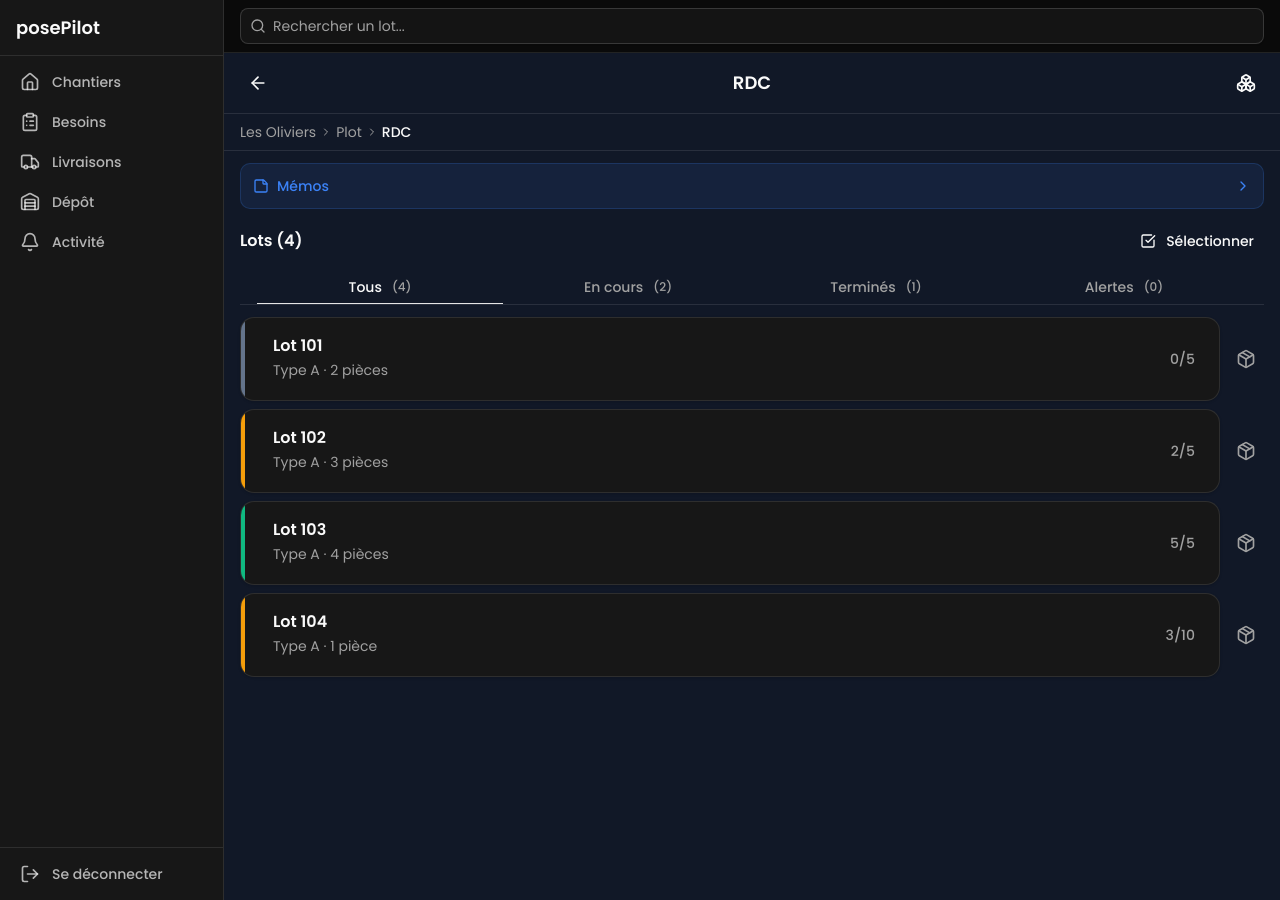
Test: EtageIndexPage — GridFilterTabs integration › "Terminés" filter shows only fully completed lots (AC #3)
Check: the element showing "Tous (4) En cours (2) Terminés (1) Alertes (0)" is shown, box x1=240 y1=269 x2=1264 y2=305
Click the tab "Terminés (1)". click: (876, 286)
box: x1=752 y1=272 x2=1000 y2=300
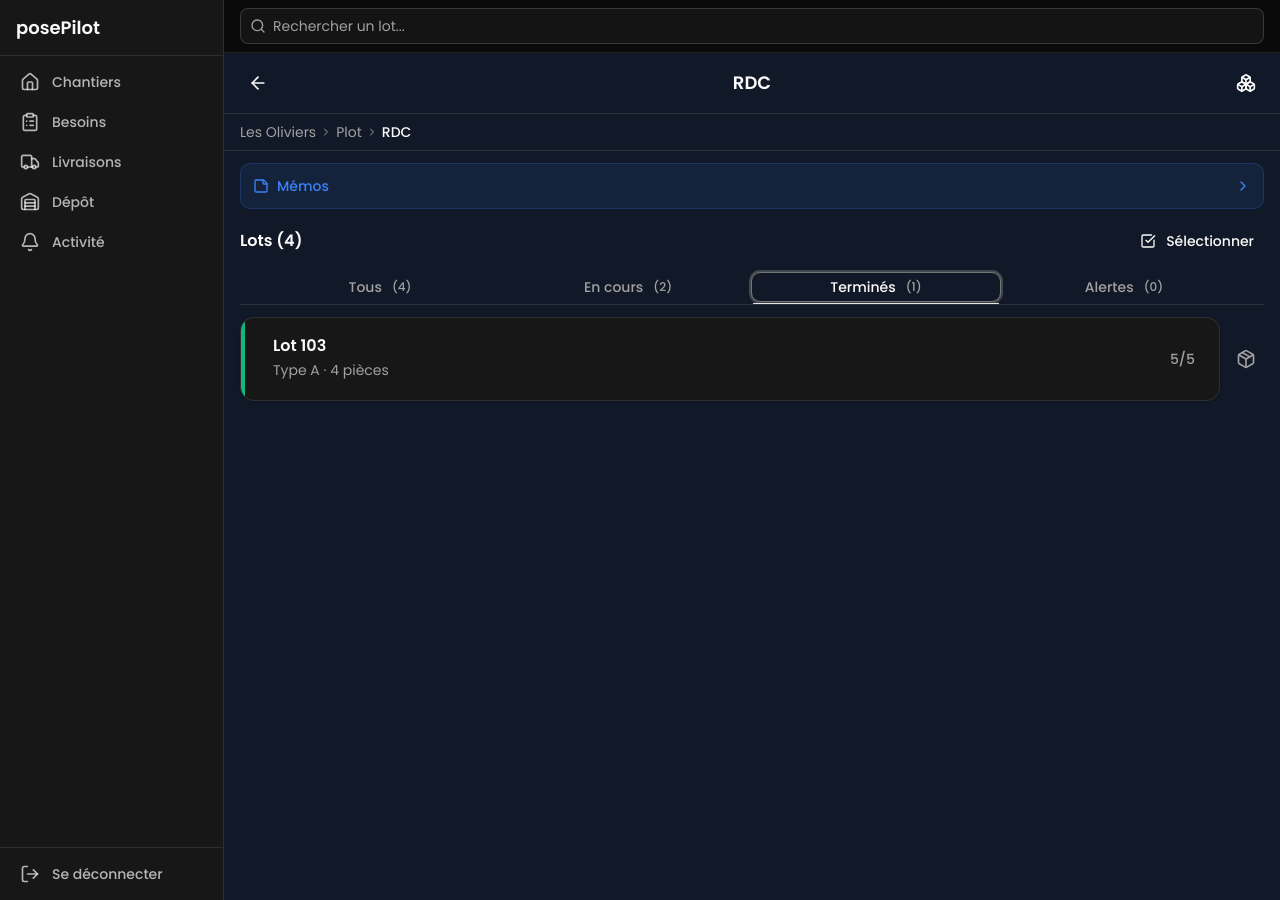
Check: the text "Lot 101" is gone
Check: the text "Lot 102" is gone
Check: the text "Lot 104" is gone
